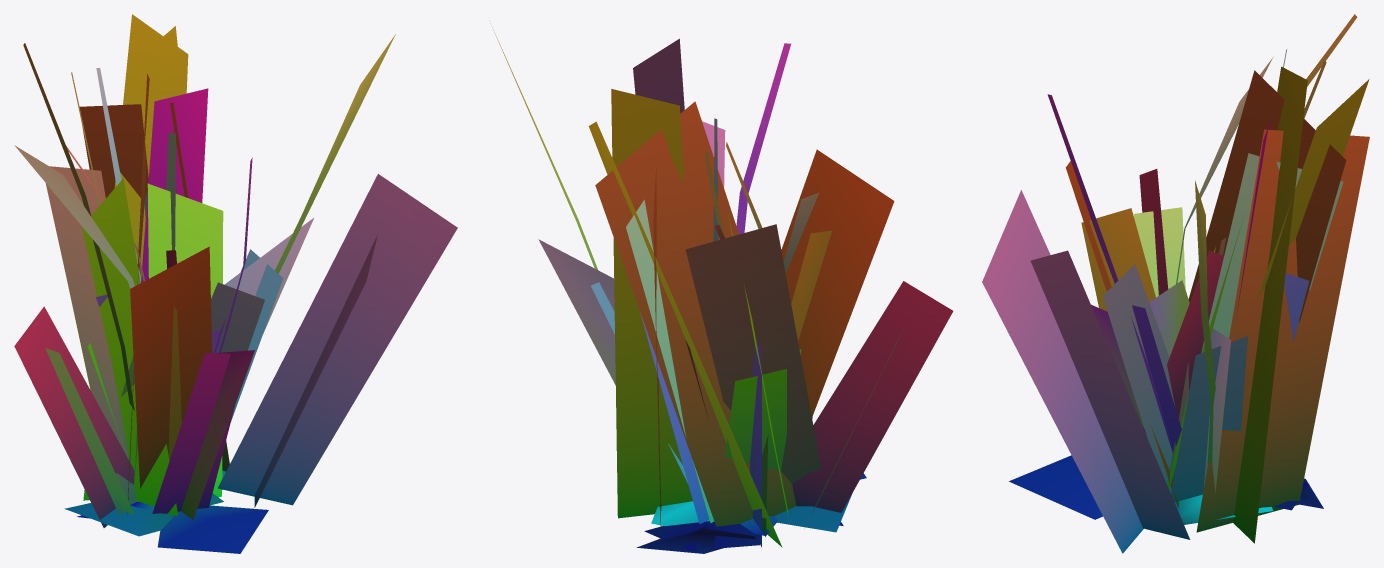
Rendered from uddmcgbia_VarC_LOD1.fbx.
3 renders of one model, left to right at view 1: azimuth 30°, elevation 25°; view 2: azimuth 150°, elevation 25°; view 3: azimuth 270°, elevation 25°, orthographic. The views are drawn at different scales.
Visible parts, largest first — view 1: _0337_VarC_LOD3; view 2: _0337_VarC_LOD3; view 3: _0337_VarC_LOD3.
Part boxes in pixels (box(x1,y1,x2,y2)): _0337_VarC_LOD3: box(14, 14, 457, 553); _0337_VarC_LOD3: box(489, 20, 953, 553); _0337_VarC_LOD3: box(982, 14, 1369, 553).
Bounding box in the file's own units: 13.11 × 13.19 × 10.03.
